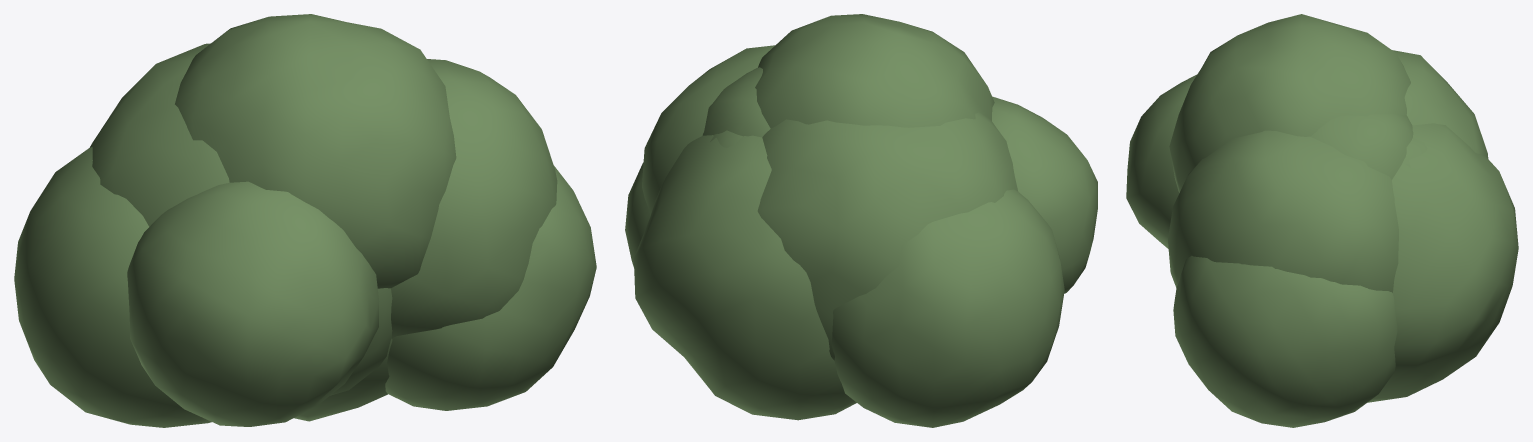
File: NPR_07_1001__MOD__VegetationElements__Shrubs__GardenShrub__Var-01__.glb
3 renders of one model, left to right at view 1: azimuth 30°, elevation 25°; view 2: azimuth 150°, elevation 25°; view 3: azimuth 270°, elevation 25°, orthographic. The views are drawn at different scales.
Parts seen in each view (by area): view 1: NPR_07_1001__MOD__VegetationElements__Shrubs__GardenShrub__V; view 2: NPR_07_1001__MOD__VegetationElements__Shrubs__GardenShrub__V; view 3: NPR_07_1001__MOD__VegetationElements__Shrubs__GardenShrub__V.
Part boxes in pixels (left/top/right/bottom): NPR_07_1001__MOD__VegetationElements__Shrubs__GardenShrub__V: left=14, top=14, right=596, bottom=427; NPR_07_1001__MOD__VegetationElements__Shrubs__GardenShrub__V: left=625, top=14, right=1097, bottom=427; NPR_07_1001__MOD__VegetationElements__Shrubs__GardenShrub__V: left=1126, top=14, right=1518, bottom=427.
Bounding box in the file's own units: 1.77 × 1.42 × 1.46.
